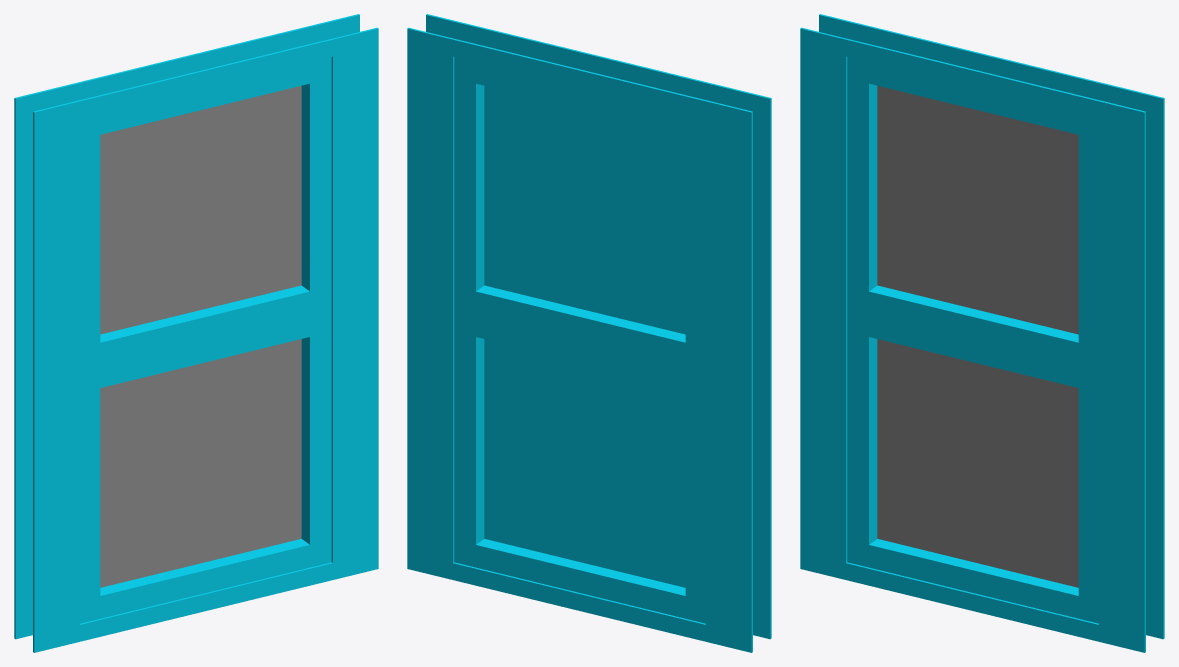
The model's file is windowTest.FBX.
3 renders of one model, left to right at view 1: azimuth 30°, elevation 25°; view 2: azimuth 150°, elevation 25°; view 3: azimuth 330°, elevation 25°, orthographic.
Visible parts, largest first — view 1: AwningWindow001; view 2: AwningWindow001; view 3: AwningWindow001.
Part boxes in pixels (x1=…): AwningWindow001: x1=14, y1=14, x2=378, y2=652; AwningWindow001: x1=407, y1=14, x2=771, y2=652; AwningWindow001: x1=800, y1=14, x2=1164, y2=652.
Bounding box in the file's own units: 78.74 × 118 × 7.87.
